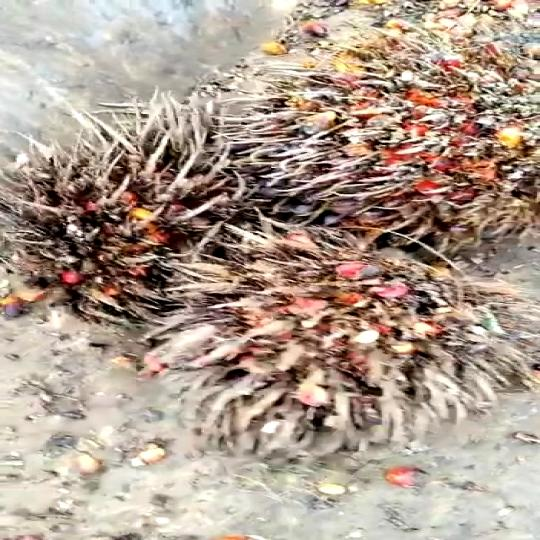terlalu masak: (147, 234, 491, 412), (0, 122, 268, 316)
